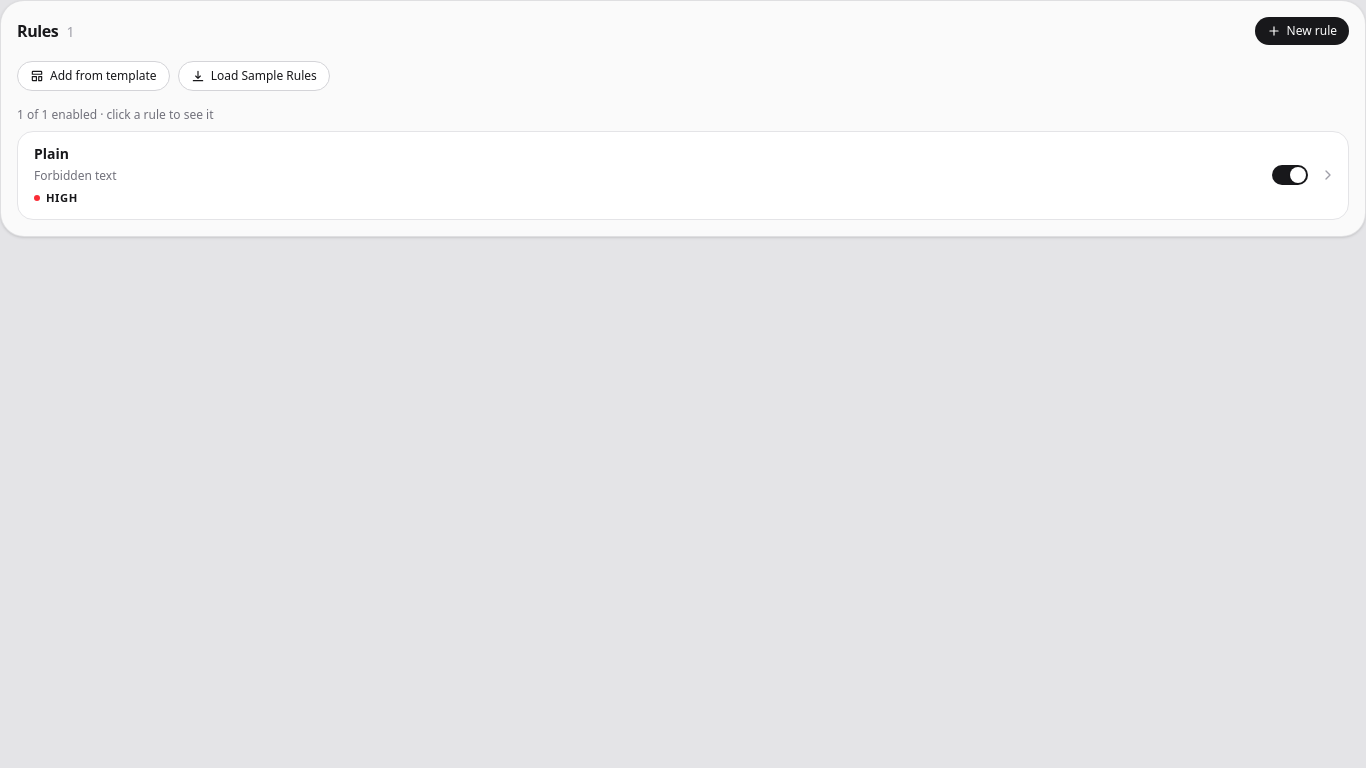
RulesPanel › shows a deterministic rule's settings in the details
This screenshot has width=1366, height=768.
Click the button with aria-label "Open rule Plain" at (52, 154), box [18,132,1260,219]
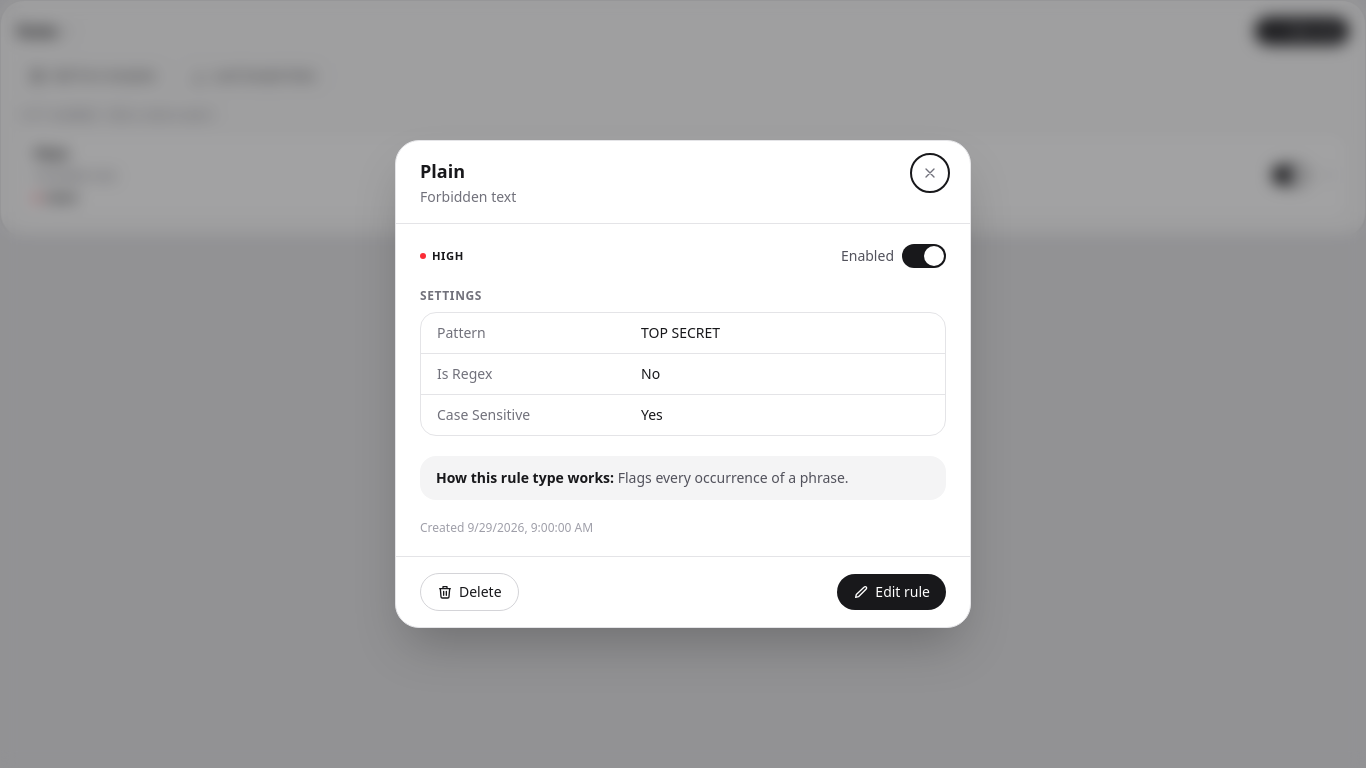
Check: the text "Pattern" is shown, box [437,323,486,342]
Check: the text "TOP SECRET" is shown, box [641,323,720,342]
Check: the text "No" is shown, box [641,364,660,383]
